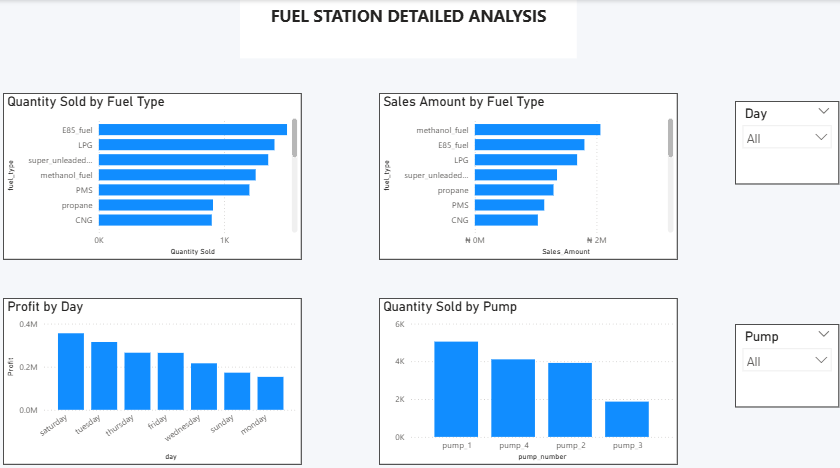

Layout of this report page (visuals, bound fields, positions):
{"tool":"powerbi","page":{"name":"Page 2","canvas":[1280,720],"ordinal":1},"visuals":[{"type":"clusteredBarChart","title":"Quantity Sold by Fuel Type","fields":{"Category":["fuel_station_data.fuel_type"],"Y":["Sum(fuel_station_data.quantity_sold)"]},"box":[27.4,133.9,430,240],"z":0},{"type":"clusteredBarChart","title":"Sales Amount by Fuel Type","fields":{"Category":["fuel_station_data.fuel_type"],"Y":["Sum(fuel_station_data.sales_amount)"]},"box":[568.8,133.9,430,240],"z":1000},{"type":"columnChart","title":"Profit by Day","fields":{"Category":["fuel_station_data.day"],"Y":["Sum(fuel_station_data.profit)"]},"box":[27.4,429.1,430,240],"z":2000},{"type":"columnChart","title":"Quantity Sold by Pump","fields":{"Category":["fuel_station_data.pump_number"],"Y":["Sum(fuel_station_data.quantity_sold)"]},"box":[568.8,429.1,430,240],"z":3000},{"type":"slicer","fields":{"Values":["fuel_station_data.day"]},"box":[1081.4,145.4,150,120],"z":4000},{"type":"slicer","fields":{"Values":["fuel_station_data.pump_number"]},"box":[1081.4,466.6,150,120],"z":5000},{"type":"textbox","box":[368.6,0,485.3,83.5],"z":6000}]}

Visuals, with their boxes in screenshot pixels (x1, y1, x2, y2), scaled from the page's 1280x720 canvas onto the 840x468 screenshot:
"Quantity Sold by Fuel Type" clusteredBarChart: bbox(18, 87, 300, 243)
"Sales Amount by Fuel Type" clusteredBarChart: bbox(373, 87, 655, 243)
"Profit by Day" columnChart: bbox(18, 279, 300, 435)
"Quantity Sold by Pump" columnChart: bbox(373, 279, 655, 435)
slicer - fuel_station_data.day: bbox(710, 95, 808, 173)
slicer - fuel_station_data.pump_number: bbox(710, 303, 808, 381)
textbox: bbox(242, 0, 560, 54)
